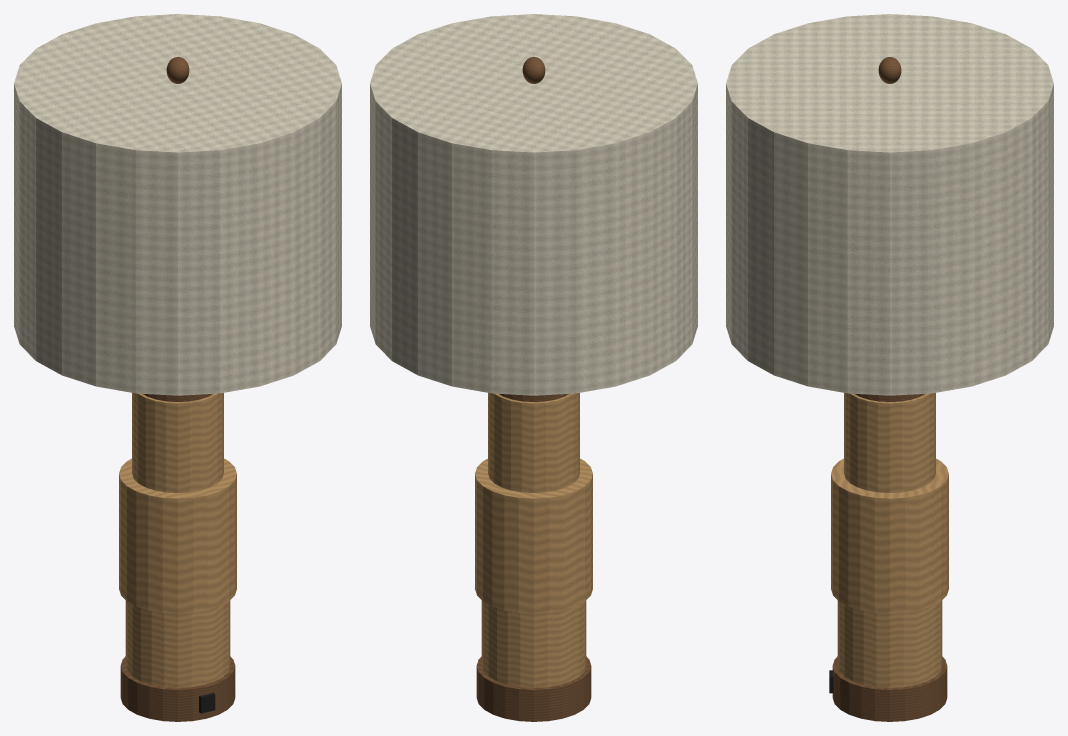
3 views of the same model, side by side, from view 1: azimuth 30°, elevation 25°; view 2: azimuth 150°, elevation 25°; view 3: azimuth 270°, elevation 25° (orthographic).
Parts seen in each view (by area): view 1: 8 linen lampshade, 4 rattan body middle, 5 rattan body upper, 3 rattan body lower, 1 wood base; view 2: 8 linen lampshade, 4 rattan body middle, 5 rattan body upper, 3 rattan body lower, 1 wood base; view 3: 8 linen lampshade, 4 rattan body middle, 5 rattan body upper, 3 rattan body lower, 1 wood base.
Part boxes in pixels (x1=…): 8 linen lampshade: x1=14, y1=14, x2=341, y2=395; 4 rattan body middle: x1=119, y1=458, x2=236, y2=613; 5 rattan body upper: x1=132, y1=393, x2=223, y2=492; 3 rattan body lower: x1=125, y1=600, x2=230, y2=687; 1 wood base: x1=120, y1=656, x2=235, y2=721; 8 linen lampshade: x1=370, y1=14, x2=697, y2=395; 4 rattan body middle: x1=475, y1=458, x2=592, y2=613; 5 rattan body upper: x1=488, y1=393, x2=579, y2=492; 3 rattan body lower: x1=481, y1=600, x2=586, y2=687; 1 wood base: x1=476, y1=656, x2=591, y2=721; 8 linen lampshade: x1=726, y1=14, x2=1053, y2=395; 4 rattan body middle: x1=831, y1=458, x2=948, y2=613; 5 rattan body upper: x1=844, y1=393, x2=935, y2=492; 3 rattan body lower: x1=837, y1=600, x2=942, y2=687; 1 wood base: x1=832, y1=656, x2=947, y2=721.
Bounding box in the file's own units: 0.3302 × 0.7112 × 0.3302.
4 materials, 3 textured.
